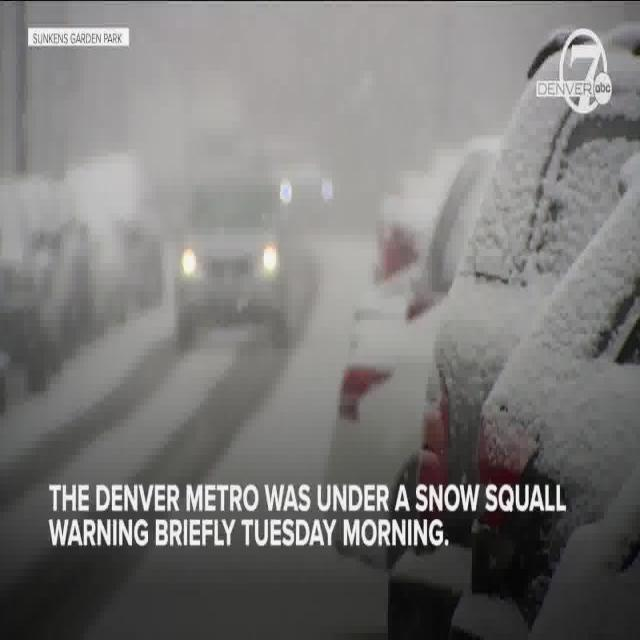Car: (380, 23, 640, 640), (450, 153, 640, 640), (324, 214, 478, 572), (172, 174, 297, 356), (529, 457, 640, 640)
